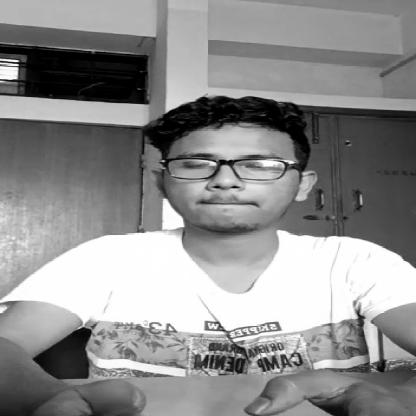Normal: (152, 120, 323, 233)
